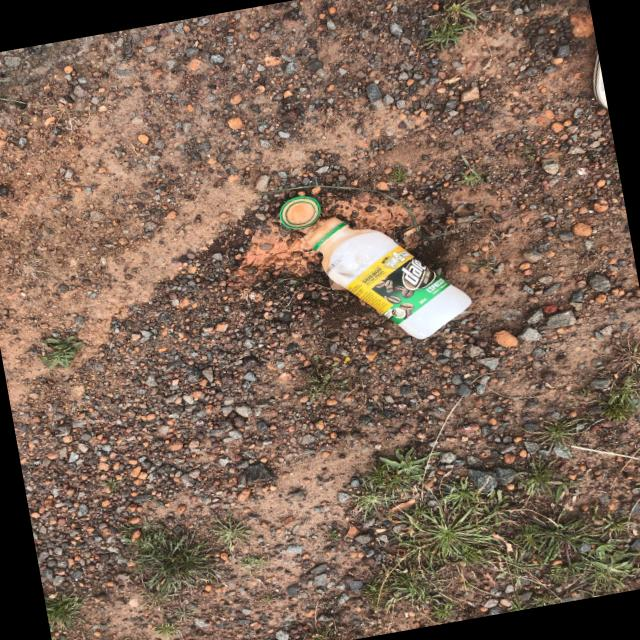less trash: (279, 196, 471, 339)
